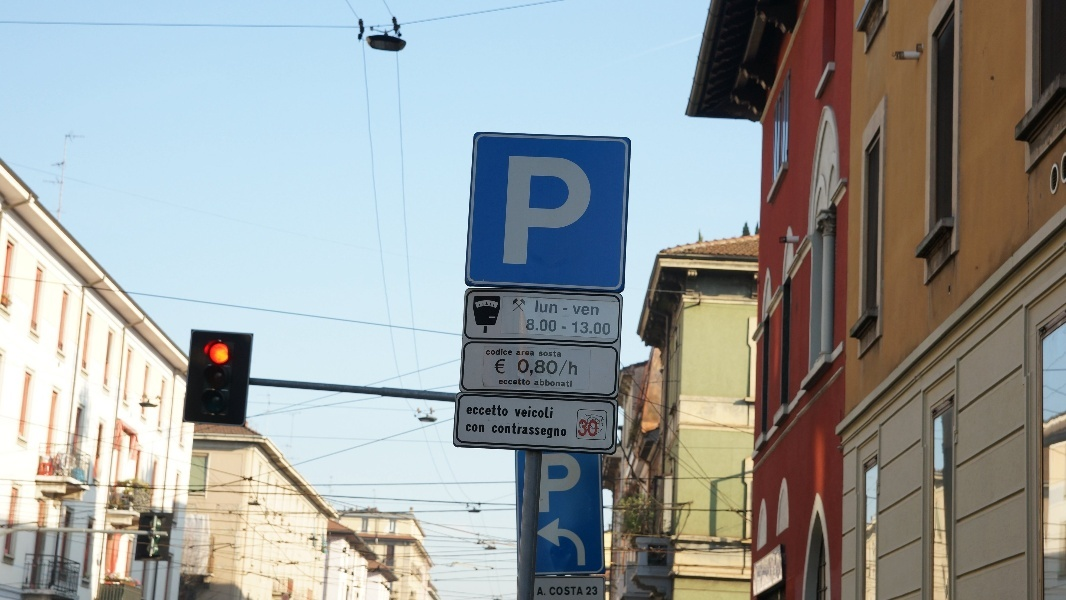text: (513, 156, 528, 268), (529, 156, 544, 268), (545, 156, 560, 268), (561, 156, 576, 268), (577, 156, 592, 268), (545, 452, 560, 513), (561, 452, 576, 513), (577, 452, 583, 513), (509, 156, 512, 268), (529, 359, 544, 377), (497, 422, 512, 440), (513, 422, 528, 440), (529, 422, 544, 440), (545, 422, 560, 440), (545, 359, 559, 377), (579, 419, 592, 438), (577, 321, 592, 336), (593, 321, 608, 336), (529, 318, 544, 332), (481, 404, 496, 417), (529, 406, 544, 419), (545, 318, 558, 332), (518, 359, 528, 377), (545, 301, 558, 314), (467, 404, 480, 417), (515, 406, 528, 419), (497, 404, 509, 417), (497, 358, 506, 375), (577, 306, 592, 316), (561, 587, 576, 596), (561, 422, 568, 440), (542, 452, 544, 513), (545, 350, 560, 358), (513, 378, 528, 386), (545, 379, 560, 387), (561, 360, 568, 377), (545, 406, 554, 419), (593, 156, 594, 268), (497, 349, 513, 356), (466, 424, 480, 432), (569, 361, 576, 376), (536, 301, 544, 314), (499, 378, 512, 386), (593, 419, 598, 438), (550, 587, 560, 596), (561, 379, 572, 387), (535, 379, 544, 387), (593, 306, 600, 316), (487, 349, 496, 356), (577, 587, 584, 596), (517, 351, 528, 356), (493, 422, 496, 440), (586, 587, 592, 596), (593, 587, 599, 596), (573, 321, 576, 336), (539, 587, 544, 596), (562, 326, 576, 329), (539, 350, 544, 358), (563, 308, 576, 311), (558, 360, 560, 377), (481, 424, 485, 432), (573, 306, 576, 316), (609, 321, 611, 336), (529, 351, 535, 356), (545, 587, 547, 596), (529, 378, 531, 386), (577, 361, 578, 376), (561, 350, 562, 358)
